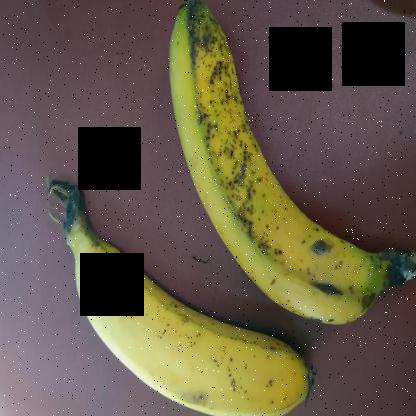ripe: (152, 1, 377, 326), (68, 253, 309, 415)
